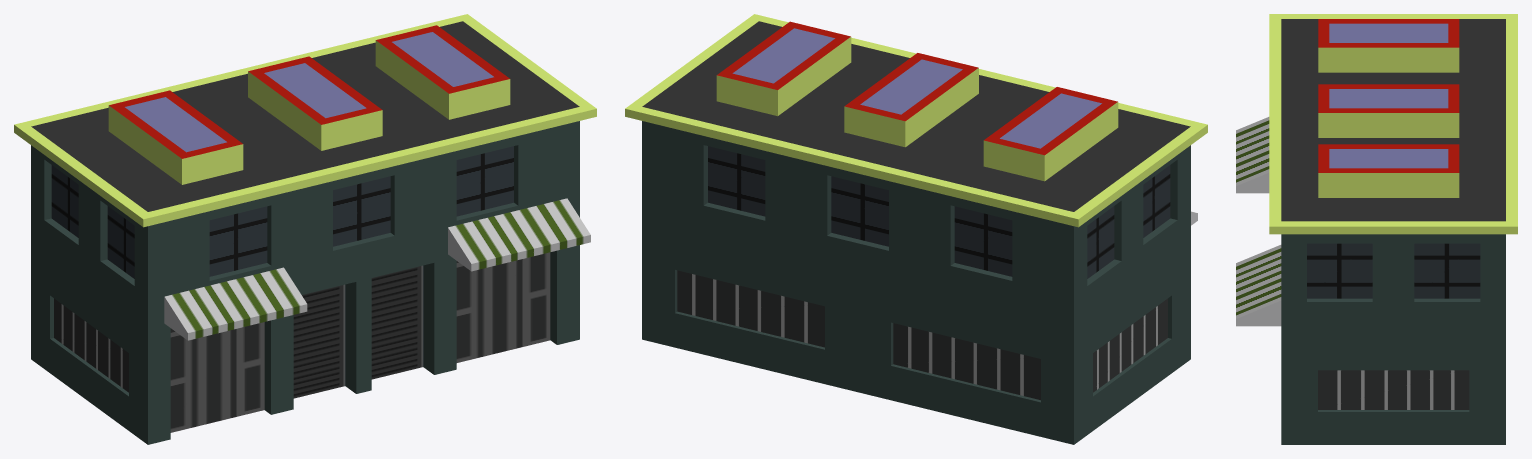
The model's file is building5c.FBX.
3 views of the same model, side by side, from view 1: azimuth 30°, elevation 25°; view 2: azimuth 150°, elevation 25°; view 3: azimuth 270°, elevation 25° (orthographic). The views are drawn at different scales.
Parts seen in each view (by area): view 1: building5c; view 2: building5c; view 3: building5c.
Boxes of the visible parts, left/top/right/bottom form: building5c: left=14, top=14, right=596, bottom=444; building5c: left=625, top=14, right=1207, bottom=444; building5c: left=1236, top=14, right=1517, bottom=444.
Size of the model in its own units: 21.11 by 11.51 by 11.83.
